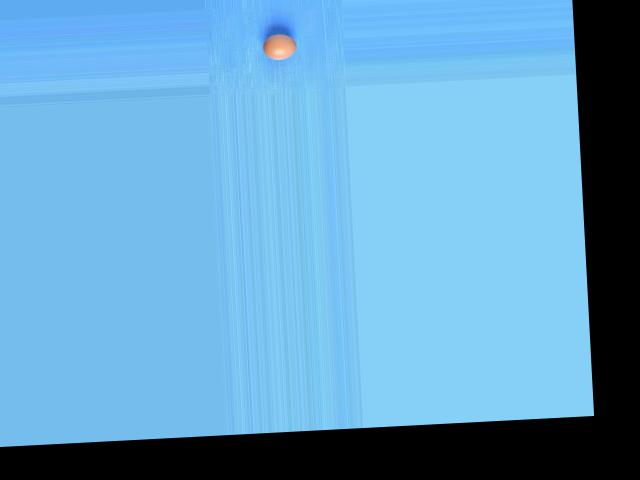egg: (263, 32, 296, 60)
